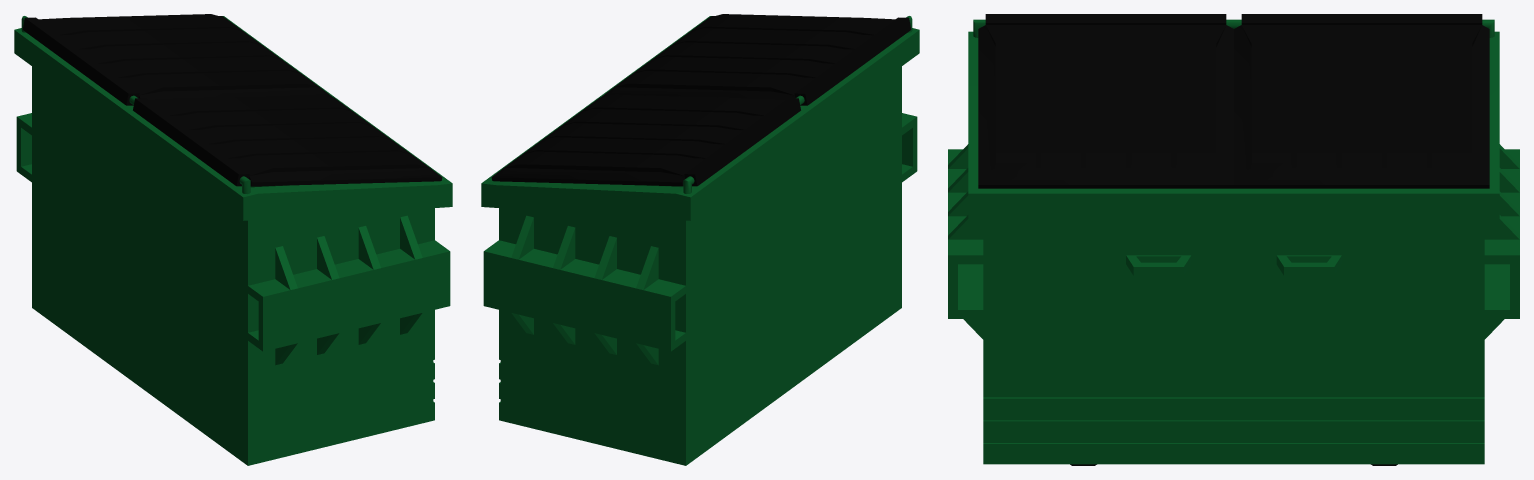
File: Dumpster 1.fbx
The picture shows the model from 3 angles, left to right: view 1: azimuth 30°, elevation 25°; view 2: azimuth 150°, elevation 25°; view 3: azimuth 270°, elevation 25°; orthographic projection. The views are drawn at different scales.
Parts seen in each view (by area): view 1: Dumpster_1, Dumpster_Os_2, Dumpster_Os_1; view 2: Dumpster_1, Dumpster_Os_1, Dumpster_Os_2; view 3: Dumpster_1, Dumpster_Os_1, Dumpster_Os_2.
Part boxes in pixels (x1,y1,x2,y2): Dumpster_1: (14, 16, 452, 465); Dumpster_Os_2: (133, 94, 442, 186); Dumpster_Os_1: (22, 14, 331, 105); Dumpster_1: (481, 16, 919, 465); Dumpster_Os_1: (491, 94, 800, 186); Dumpster_Os_2: (602, 14, 911, 105); Dumpster_1: (948, 19, 1519, 465); Dumpster_Os_1: (1234, 14, 1489, 188); Dumpster_Os_2: (978, 14, 1233, 188).
Size of the model in its own units: 117 by 160 by 228.
